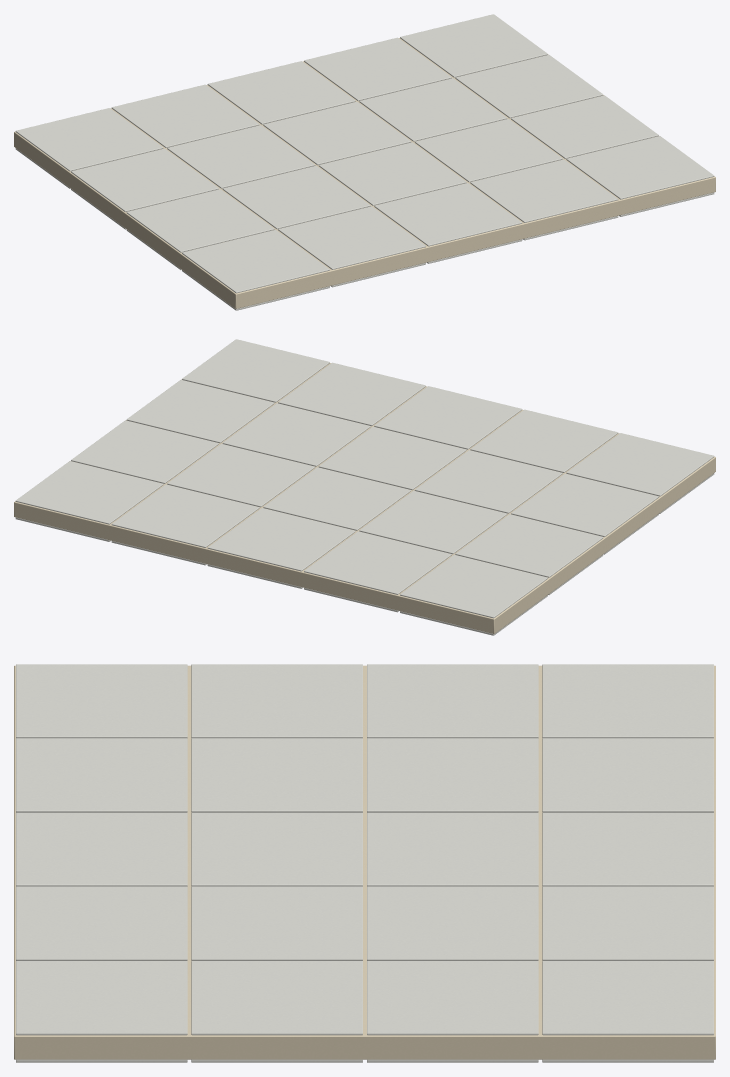
The model's file is 31_ceiling_panel.glb.
3 views of the same model, one above another, from view 1: azimuth 30°, elevation 25°; view 2: azimuth 150°, elevation 25°; view 3: azimuth 270°, elevation 25° (orthographic). The views are drawn at different scales.
Visible parts, largest first — view 1: 31_ceiling_panel__ceiling_support, 31_ceiling_panel__upper_tile.014, 31_ceiling_panel__upper_tile.001, 31_ceiling_panel__upper_tile.003, 31_ceiling_panel__upper_tile.011, 31_ceiling_panel__upper_tile.012, 31_ceiling_panel__upper_tile.018, 31_ceiling_panel__upper_tile.002, 31_ceiling_panel__upper_tile.004, 31_ceiling_panel__upper_tile.005, 31_ceiling_panel__upper_tile.006, 31_ceiling_panel__upper_tile.007 (+9 smaller); view 2: 31_ceiling_panel__ceiling_support, 31_ceiling_panel__upper_tile.013, 31_ceiling_panel__upper_tile.002, 31_ceiling_panel__upper_tile, 31_ceiling_panel__upper_tile.008, 31_ceiling_panel__upper_tile.015, 31_ceiling_panel__upper_tile.017, 31_ceiling_panel__upper_tile.001, 31_ceiling_panel__upper_tile.004, 31_ceiling_panel__upper_tile.005, 31_ceiling_panel__upper_tile.006, 31_ceiling_panel__upper_tile.007 (+9 smaller); view 3: 31_ceiling_panel__ceiling_support, 31_ceiling_panel__upper_tile, 31_ceiling_panel__upper_tile.001, 31_ceiling_panel__upper_tile.002, 31_ceiling_panel__upper_tile.003, 31_ceiling_panel__upper_tile.004, 31_ceiling_panel__upper_tile.005, 31_ceiling_panel__upper_tile.006, 31_ceiling_panel__upper_tile.007, 31_ceiling_panel__upper_tile.008, 31_ceiling_panel__upper_tile.009, 31_ceiling_panel__upper_tile.010 (+13 smaller).
Boxes of the visible parts, x1,y1,x2,y2 form: 31_ceiling_panel__ceiling_support: [14, 38, 715, 308]; 31_ceiling_panel__upper_tile.014: [359, 78, 507, 141]; 31_ceiling_panel__upper_tile.001: [126, 189, 274, 252]; 31_ceiling_panel__upper_tile.003: [15, 108, 163, 171]; 31_ceiling_panel__upper_tile.011: [207, 61, 355, 124]; 31_ceiling_panel__upper_tile.012: [470, 159, 618, 222]; 31_ceiling_panel__upper_tile.018: [455, 55, 603, 118]; 31_ceiling_panel__upper_tile.002: [71, 148, 218, 211]; 31_ceiling_panel__upper_tile.004: [278, 206, 425, 269]; 31_ceiling_panel__upper_tile.005: [222, 165, 370, 229]; 31_ceiling_panel__upper_tile.006: [167, 125, 315, 188]; 31_ceiling_panel__upper_tile.007: [111, 84, 259, 147]; 31_ceiling_panel__ceiling_support: [14, 363, 715, 633]; 31_ceiling_panel__upper_tile.013: [222, 403, 370, 466]; 31_ceiling_panel__upper_tile.002: [455, 514, 603, 577]; 31_ceiling_panel__upper_tile: [566, 433, 714, 496]; 31_ceiling_panel__upper_tile.008: [374, 386, 522, 449]; 31_ceiling_panel__upper_tile.015: [111, 484, 259, 547]; 31_ceiling_panel__upper_tile.017: [126, 380, 274, 443]; 31_ceiling_panel__upper_tile.001: [511, 473, 658, 536]; 31_ceiling_panel__upper_tile.004: [470, 409, 618, 472]; 31_ceiling_panel__upper_tile.005: [414, 450, 562, 513]; 31_ceiling_panel__upper_tile.006: [359, 490, 507, 554]; 31_ceiling_panel__upper_tile.007: [304, 531, 451, 594]; 31_ceiling_panel__ceiling_support: [14, 665, 715, 1059]; 31_ceiling_panel__upper_tile: [16, 664, 187, 738]; 31_ceiling_panel__upper_tile.001: [191, 664, 362, 738]; 31_ceiling_panel__upper_tile.002: [367, 664, 538, 738]; 31_ceiling_panel__upper_tile.003: [542, 664, 713, 738]; 31_ceiling_panel__upper_tile.004: [16, 738, 187, 812]; 31_ceiling_panel__upper_tile.005: [191, 738, 362, 812]; 31_ceiling_panel__upper_tile.006: [367, 738, 538, 812]; 31_ceiling_panel__upper_tile.007: [542, 738, 713, 812]; 31_ceiling_panel__upper_tile.008: [16, 812, 187, 886]; 31_ceiling_panel__upper_tile.009: [191, 812, 362, 886]; 31_ceiling_panel__upper_tile.010: [367, 812, 538, 886].
Bounding box in the file's own units: 3 × 0.112 × 2.4.
Materials: 2 (2 with a texture image).
